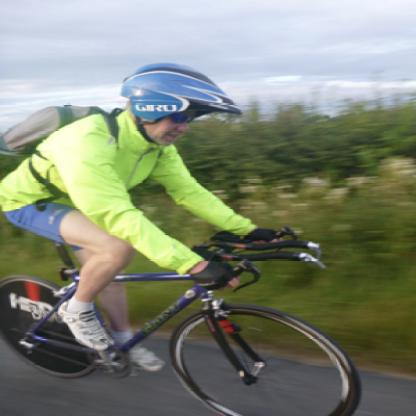Helmet: (116, 56, 248, 153)
